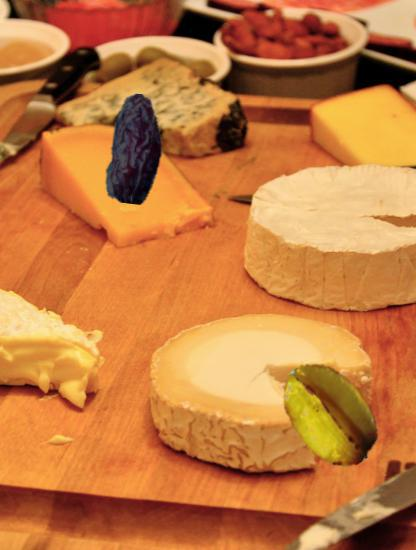Carambula: (272, 358, 387, 473)
Dates: (81, 94, 191, 204)
